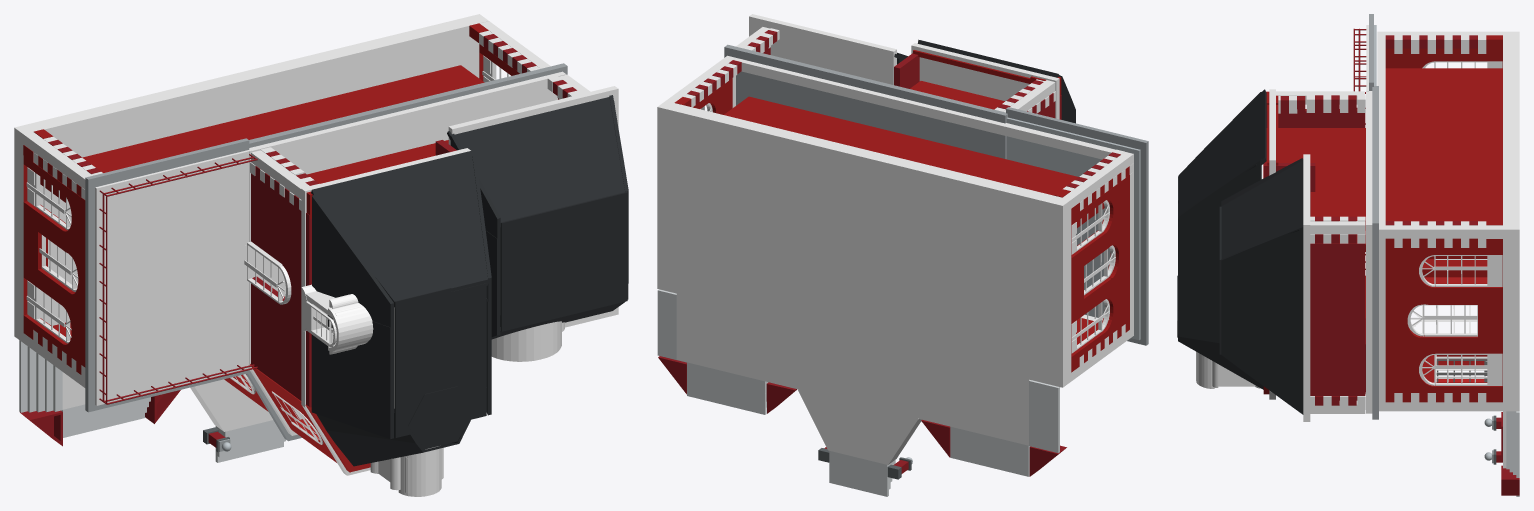
File: tinker.obj
The picture shows the model from 3 angles, left to right: view 1: azimuth 30°, elevation 25°; view 2: azimuth 150°, elevation 25°; view 3: azimuth 270°, elevation 25°; orthographic projection. The views are drawn at different scales.
Parts seen in each view (by area): view 1: group_0_-328966, group_0_-13947343, group_0_-5892329, group_0_-7005663, group_0_-5788239, group_0_-2235676, group_0_-4710625; view 2: group_0_-328966, group_0_-5892329, group_0_-5788239, group_0_-2235676, group_0_-4208692, group_0_-7005663, group_0_-13947343; view 3: group_0_-5892329, group_0_-13947343, group_0_-328966, group_0_-7005663, group_0_-5788239, group_0_-4710625, group_0_-2235676.
Part boxes in pixels (bbox=[...]): group_0_-328966: bbox=[14, 14, 618, 496]; group_0_-13947343: bbox=[311, 95, 628, 466]; group_0_-5892329: bbox=[23, 23, 519, 374]; group_0_-7005663: bbox=[20, 34, 576, 447]; group_0_-5788239: bbox=[85, 63, 567, 451]; group_0_-2235676: bbox=[19, 340, 285, 462]; group_0_-4710625: bbox=[224, 364, 370, 472]; group_0_-328966: bbox=[657, 14, 1133, 464]; group_0_-5892329: bbox=[674, 50, 1129, 372]; group_0_-5788239: bbox=[724, 44, 1148, 459]; group_0_-2235676: bbox=[657, 289, 1059, 496]; group_0_-4208692: bbox=[906, 117, 1140, 463]; group_0_-7005663: bbox=[658, 30, 1120, 476]; group_0_-13947343: bbox=[894, 39, 1075, 123]; group_0_-5892329: bbox=[1263, 35, 1502, 402]; group_0_-13947343: bbox=[1177, 89, 1303, 414]; group_0_-328966: bbox=[1196, 25, 1519, 468]; group_0_-7005663: bbox=[1263, 28, 1519, 495]; group_0_-5788239: bbox=[1369, 14, 1493, 463]; group_0_-4710625: bbox=[1263, 275, 1487, 394]; group_0_-2235676: bbox=[1435, 259, 1519, 496].
Bounding box in the file's own units: 148 × 114 × 102.
